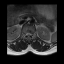CCS_normal: (27, 32, 29, 38)
LFS_normal: (31, 32, 32, 36)
LLS_normal: (29, 32, 31, 37)
RFS_normal: (24, 32, 25, 36)
RLS_normal: (25, 32, 27, 36)
